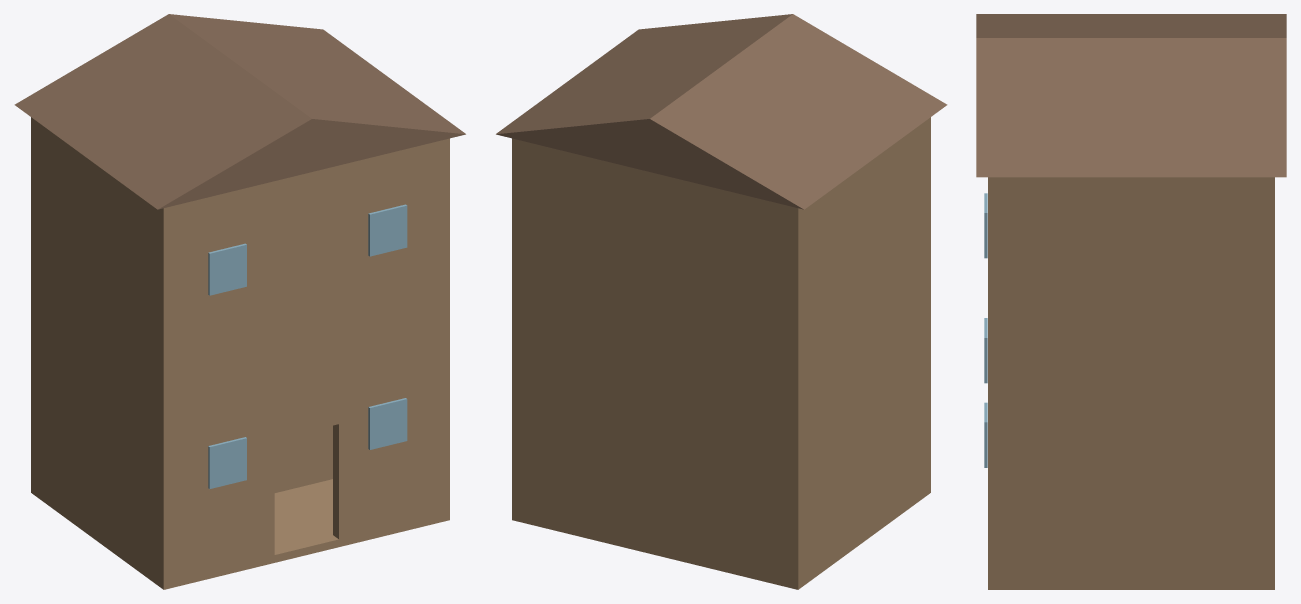
Rendered from castle.glb.
3 views of the same model, side by side, from view 1: azimuth 30°, elevation 25°; view 2: azimuth 150°, elevation 25°; view 3: azimuth 270°, elevation 25° (orthographic). The views are drawn at different scales.
Visible parts, largest first — view 1: building_0_1, building_0_14, building_0_5, building_0_4, building_0_6, building_0_0, building_0_2, building_0_8, building_0_7, building_0_13, building_0_11, building_0_10 (+1 smaller); view 2: building_0_3, building_0_1, building_0_14, building_0_2, building_0_0; view 3: building_0_2, building_0_14, building_0_0, building_0_8.
Boxes of the visible parts, box(x1,y1,x2,y2) form: building_0_1: box(31, 117, 174, 589); building_0_14: box(14, 14, 465, 209); building_0_5: box(333, 141, 439, 539); building_0_4: box(174, 181, 274, 579); building_0_6: box(274, 165, 338, 439); building_0_0: box(31, 479, 449, 589); building_0_2: box(439, 138, 449, 516); building_0_8: box(274, 425, 332, 492); building_0_7: box(94, 164, 100, 542); building_0_13: box(368, 204, 407, 256); building_0_11: box(368, 398, 407, 449); building_0_10: box(208, 437, 246, 488); building_0_3: box(522, 141, 787, 586); building_0_1: box(787, 117, 930, 589); building_0_14: box(496, 14, 947, 209); building_0_2: box(512, 138, 522, 517); building_0_0: box(512, 485, 930, 589); building_0_2: box(988, 177, 1274, 589); building_0_14: box(976, 14, 1286, 177); building_0_0: box(988, 581, 1274, 589); building_0_8: box(1125, 177, 1137, 589).
Size of the model in its own units: 5.78 by 7.86 by 4.64.
